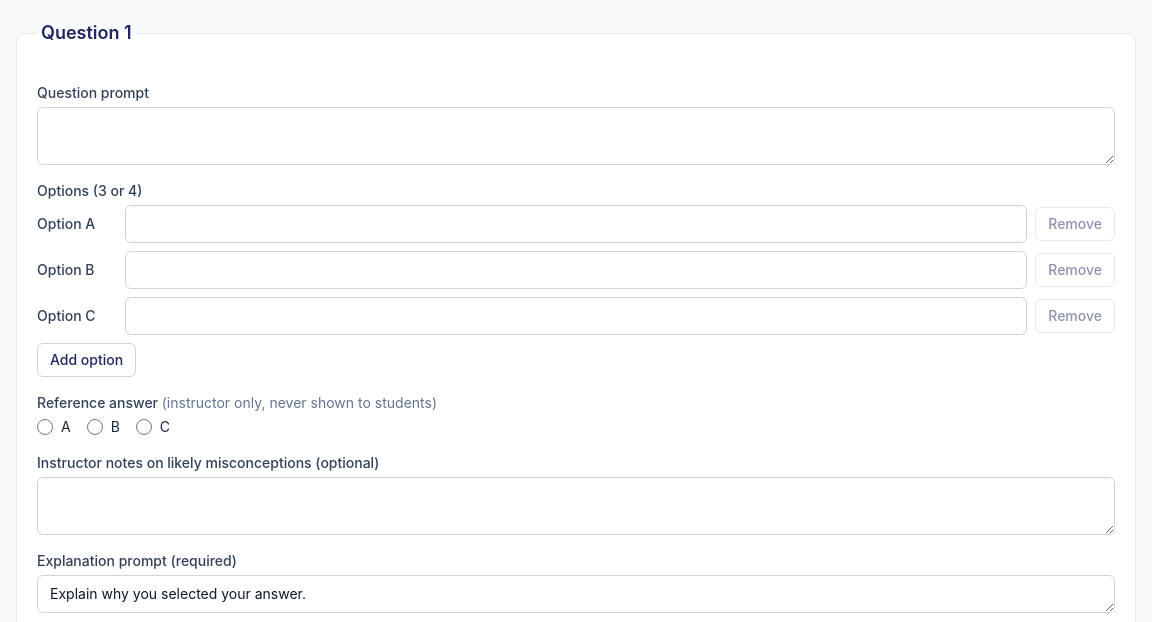
Test: Add option stops at 4; Remove option stops at 3
(page scrolled)
Check: the button with aria-label "Remove option C" is disabled, box [1035, 299, 1115, 333]
Click the button "Add option": (87, 360) [37, 343, 136, 377]
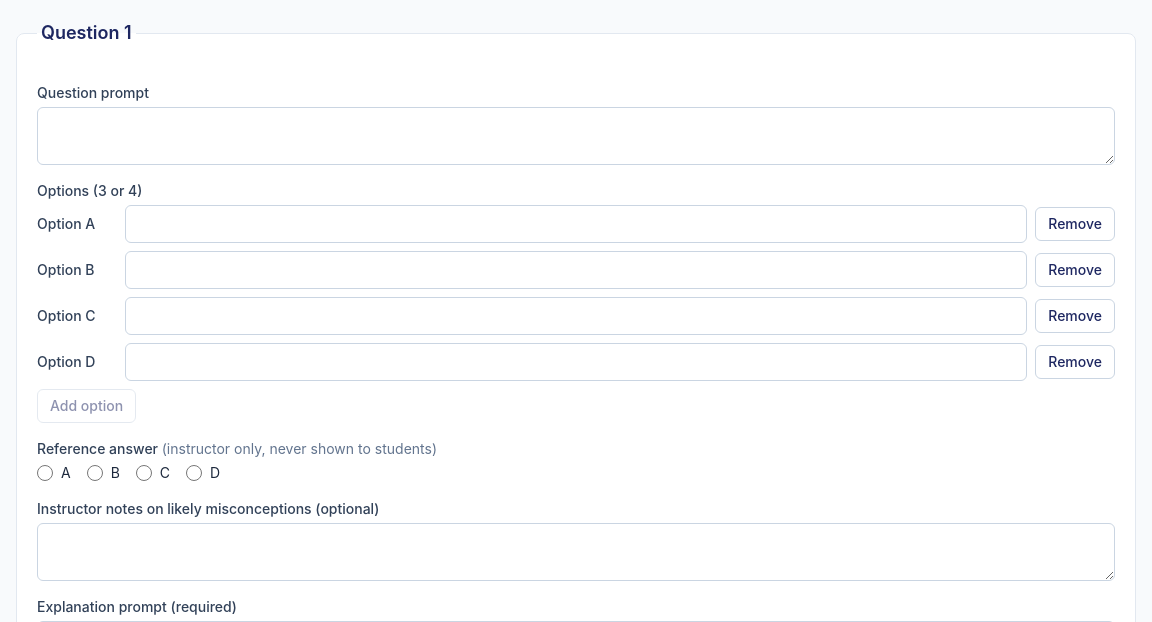
Check: the number of fields labelled "Option A" is 4, box [125, 205, 1027, 243]; [125, 251, 1027, 289]; [125, 297, 1027, 335]; [125, 343, 1027, 381]
Check: the button "Add option" is disabled, box [37, 389, 136, 423]
Check: the button with aria-label "Remove option D" is enabled, box [1035, 345, 1115, 379]
